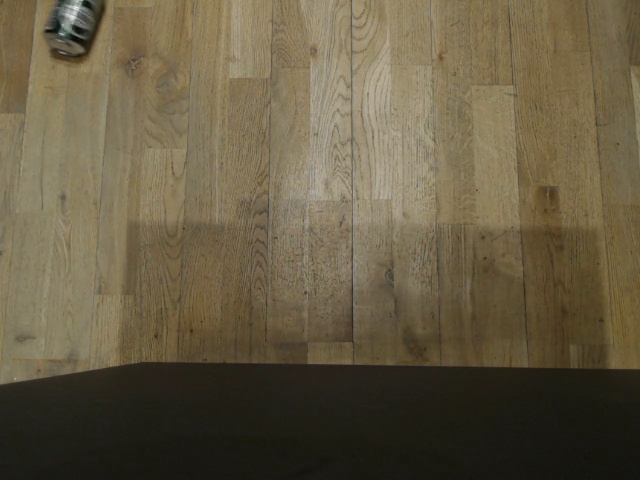beer: (41, 0, 103, 61)
